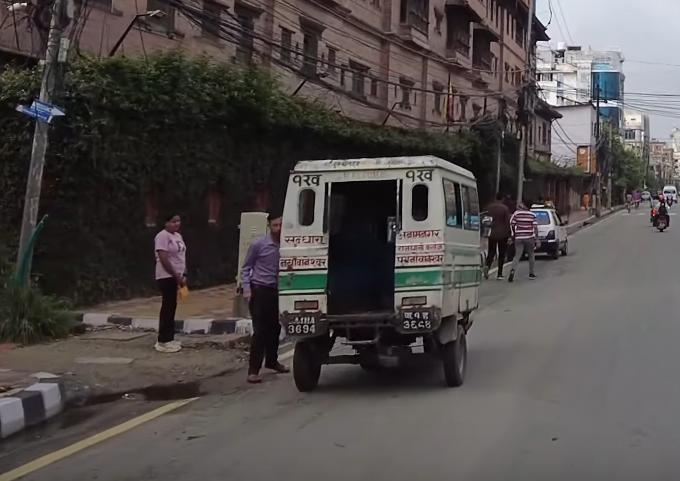taxi: (521, 196, 571, 261)
tempo: (266, 149, 493, 399)
